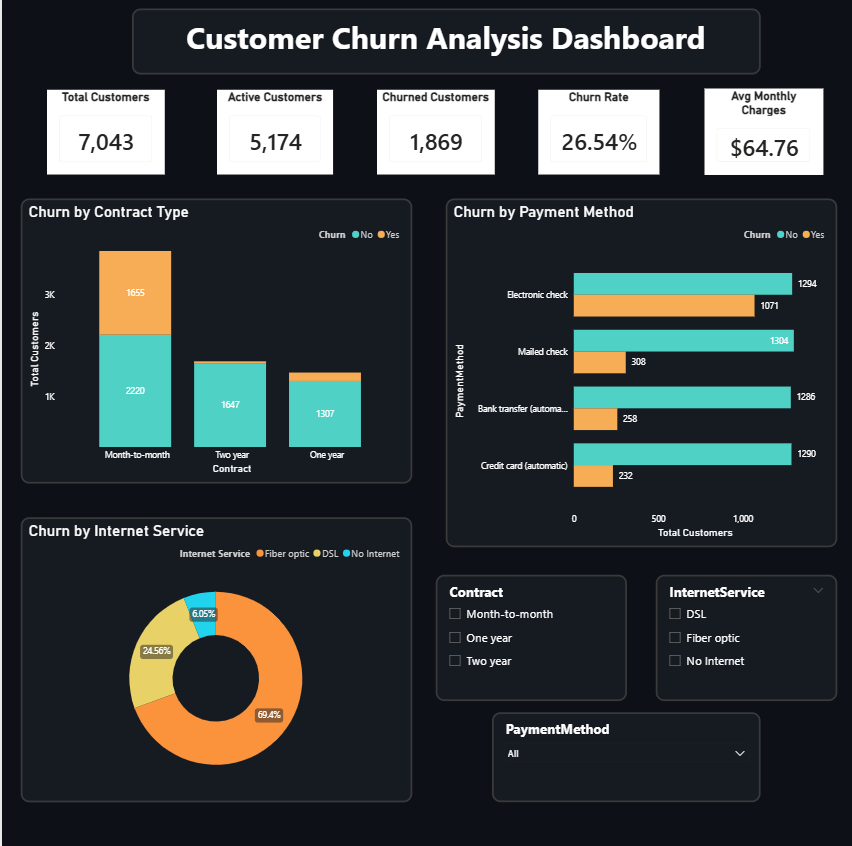

What the dashboard file says about the page in this screenshot:
{"tool":"powerbi","page":{"name":"Page 1","canvas":[1200,1200],"ordinal":0},"visuals":[{"type":"cardVisual","title":"Avg Monthly Charges","fields":{"Data":["Telco_Customer_Churn.Avg Monthly Charges"]},"box":[987.7,130.1,167,121.3],"z":0},{"type":"cardVisual","title":"Active Customers","fields":{"Data":["Telco_Customer_Churn.Active Customers"]},"box":[302.3,131.8,163.4,119.5],"z":1000},{"type":"cardVisual","title":"Churn Rate ","fields":{"Data":["Telco_Customer_Churn.Churn Rate (%)"]},"box":[754,131.8,170.5,119.5],"z":2000},{"type":"cardVisual","title":"Churned Customers","fields":{"Data":["Telco_Customer_Churn.Churned Customers"]},"box":[527.2,131.8,165.2,119.5],"z":3000},{"type":"columnChart","title":"Churn by Contract Type","fields":{"Category":["Telco_Customer_Churn.Contract"],"Series":["Telco_Customer_Churn.Churn"],"Y":["Telco_Customer_Churn.Total Customers"]},"box":[26.4,284.7,550.1,400.7],"z":4000},{"type":"clusteredBarChart","title":"Churn by Payment Method","fields":{"Category":["Telco_Customer_Churn.PaymentMethod"],"Series":["Telco_Customer_Churn.Churn"],"Y":["Telco_Customer_Churn.Total Customers"]},"box":[623.9,284.7,550.1,490.3],"z":5000},{"type":"donutChart","title":"Churn by Internet Service","fields":{"Category":["Telco_Customer_Churn.InternetService"],"Y":["Telco_Customer_Churn.Churned Customers"]},"box":[26.4,732.9,550.1,400.7],"z":6000},{"type":"textbox","box":[182.8,17.6,884,93.1],"z":7000},{"type":"cardVisual","title":"Total Customers","fields":{"Data":["Telco_Customer_Churn.Total Customers"]},"box":[63.3,131.8,165.2,119.5],"z":8000},{"type":"slicer","fields":{"Values":["Telco_Customer_Churn.Contract"]},"box":[609.8,813.7,268.9,177.5],"z":9000},{"type":"slicer","fields":{"Values":["Telco_Customer_Churn.PaymentMethod"]},"box":[688.9,1007,377.9,126.5],"z":10000},{"type":"slicer","fields":{"Values":["Telco_Customer_Churn.InternetService"]},"box":[919.2,813.7,254.8,177.5],"z":11000}]}

Visuals, with their boxes in screenshot pixels (x1, y1, x2, y2), scaled from the page's 1200x1200 canvas onto the 852x846 screenshot:
"Avg Monthly Charges" cardVisual: (x1=701, y1=92, x2=820, y2=177)
"Active Customers" cardVisual: (x1=215, y1=93, x2=331, y2=177)
"Churn Rate " cardVisual: (x1=535, y1=93, x2=656, y2=177)
"Churned Customers" cardVisual: (x1=374, y1=93, x2=492, y2=177)
"Churn by Contract Type" columnChart: (x1=19, y1=201, x2=409, y2=483)
"Churn by Payment Method" clusteredBarChart: (x1=443, y1=201, x2=834, y2=546)
"Churn by Internet Service" donutChart: (x1=19, y1=517, x2=409, y2=799)
textbox: (x1=130, y1=12, x2=757, y2=78)
"Total Customers" cardVisual: (x1=45, y1=93, x2=162, y2=177)
slicer - Telco_Customer_Churn.Contract: (x1=433, y1=574, x2=624, y2=699)
slicer - Telco_Customer_Churn.PaymentMethod: (x1=489, y1=710, x2=757, y2=799)
slicer - Telco_Customer_Churn.InternetService: (x1=653, y1=574, x2=834, y2=699)
